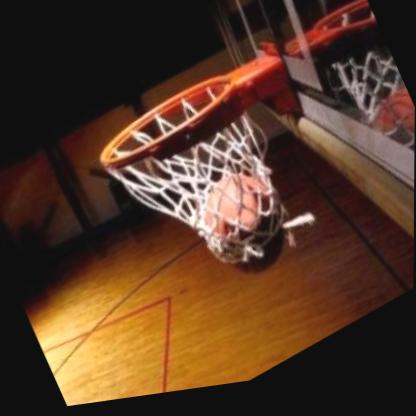basketball: (185, 155, 311, 308)
rim: (77, 48, 316, 320)
